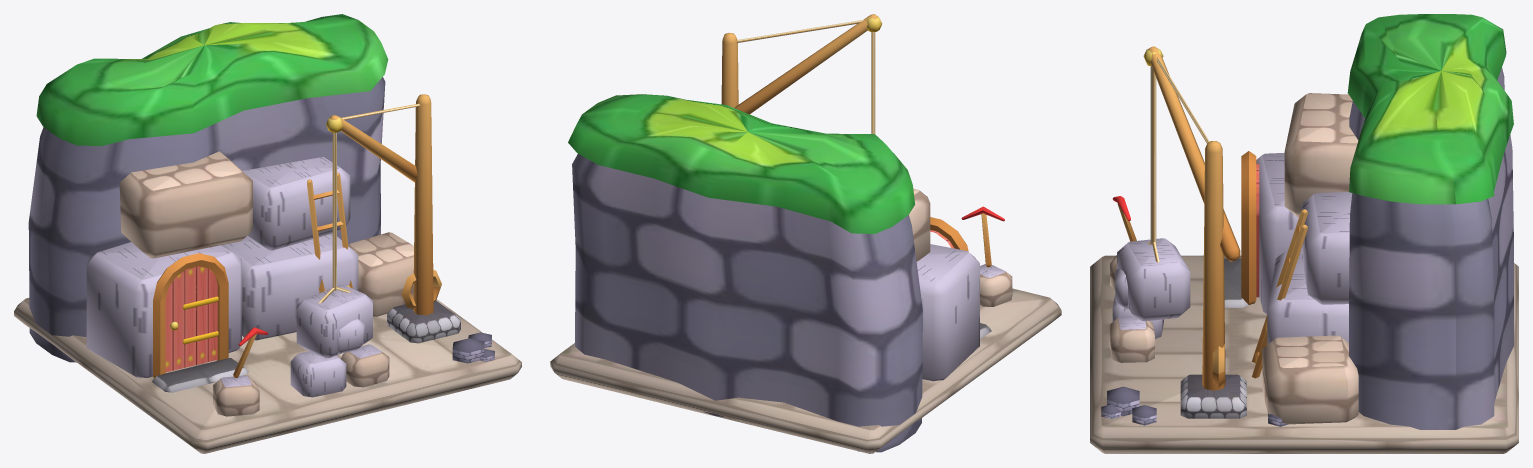
File: quarry.glb
The picture shows the model from 3 angles, left to right: view 1: azimuth 30°, elevation 25°; view 2: azimuth 150°, elevation 25°; view 3: azimuth 270°, elevation 25°; orthographic projection. The views are drawn at different scales.
Parts seen in each view (by area): view 1: quarry; view 2: quarry; view 3: quarry.
Part boxes in pixels (x1,y1,x2,y2): quarry: (14, 14, 521, 453); quarry: (550, 14, 1061, 453); quarry: (1090, 14, 1518, 453).
Bounding box in the file's own units: 7.1 × 5.94 × 7.1.
3 materials, 3 textured.
